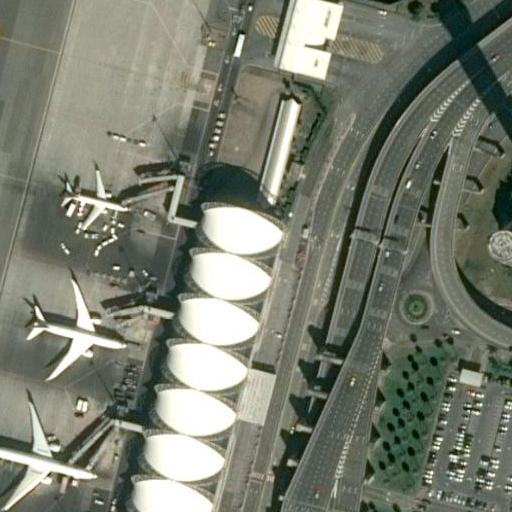Aircraft: (14, 276, 123, 378), (0, 400, 97, 508), (56, 162, 129, 233)
